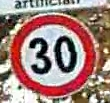limite 30: (8, 13, 98, 97)
